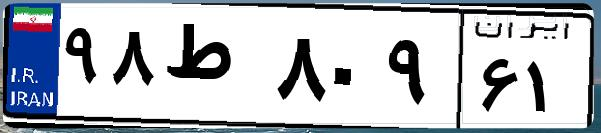0: (330, 28, 385, 110)
1: (525, 38, 570, 115)
6: (475, 38, 525, 113)
8: (270, 28, 330, 110), (110, 28, 158, 98)
9: (385, 28, 445, 110), (57, 26, 110, 100)
ط: (158, 20, 270, 120)
